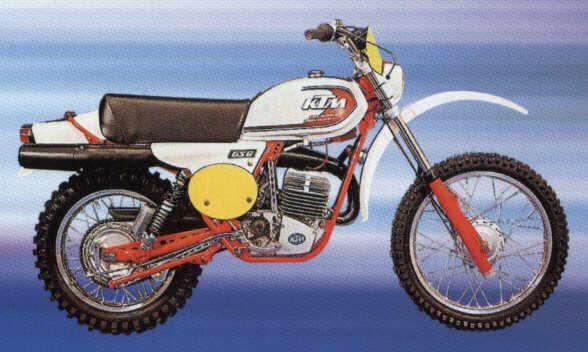motorcycle: (10, 6, 580, 341)
